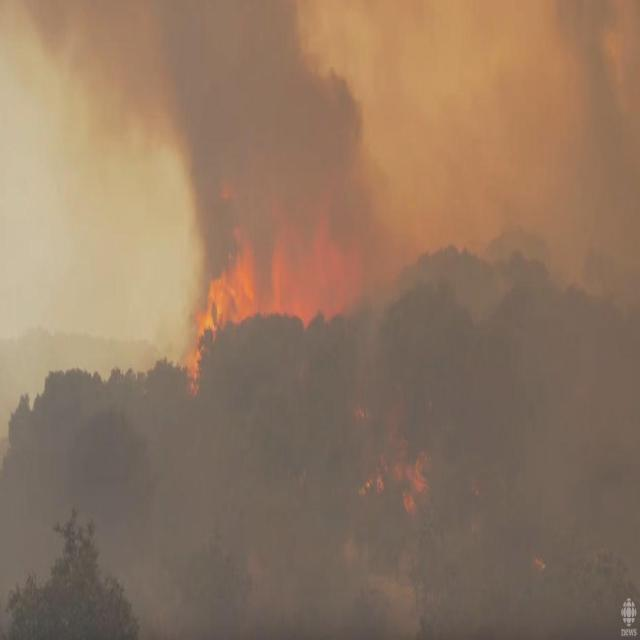Fire: (183, 225, 364, 395), (356, 431, 429, 516)
Smoke: (23, 1, 390, 315)
